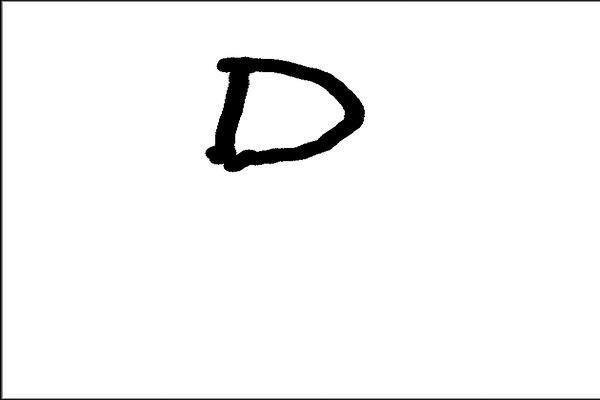D: (201, 49, 371, 177)
